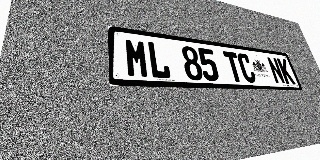5: (197, 48, 220, 81)
8: (180, 45, 204, 81)
C: (236, 53, 257, 83)
K: (276, 58, 296, 84)
L: (146, 41, 171, 79)
M: (124, 38, 150, 78)
N: (266, 57, 286, 84)
T: (223, 51, 244, 82)
